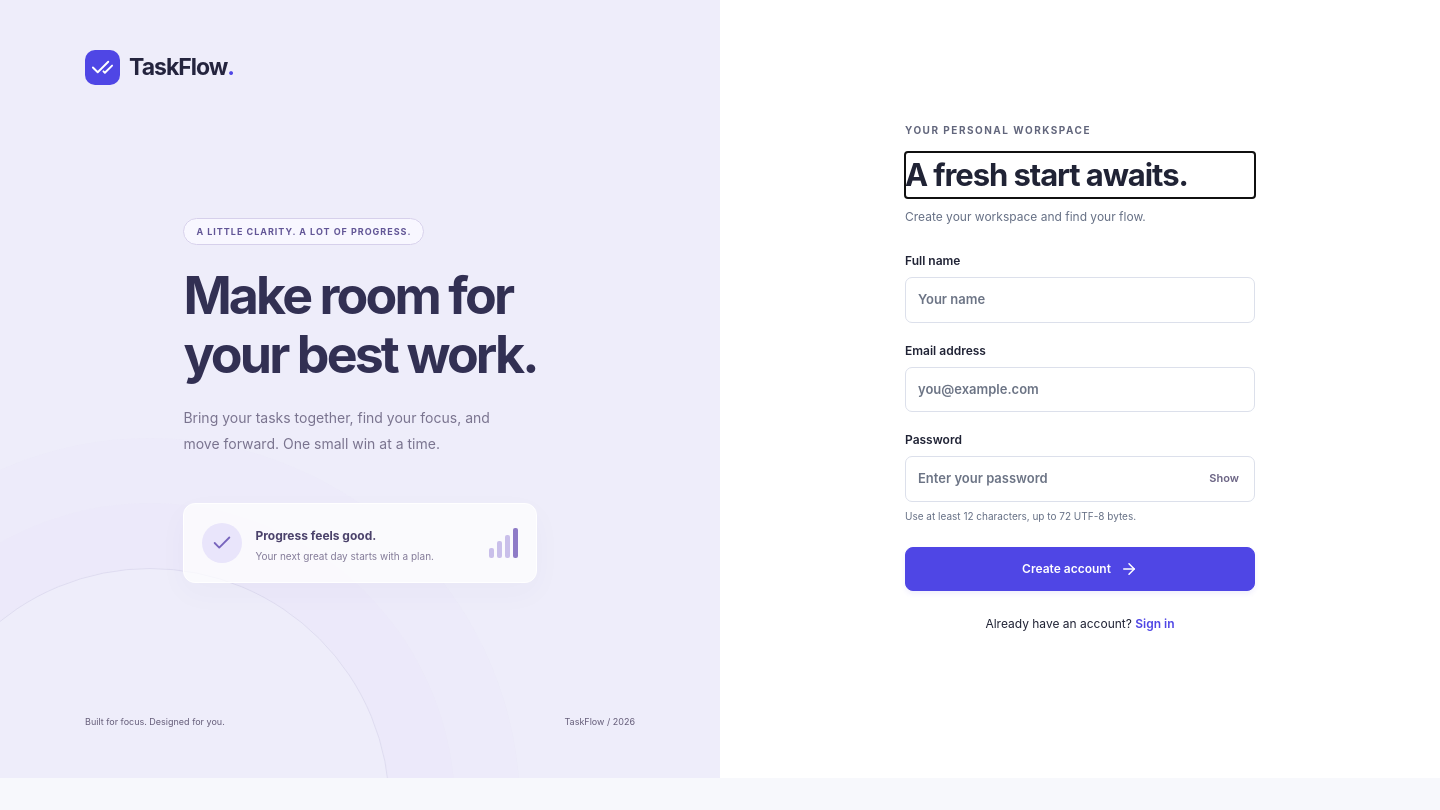
retains registration inputs and associates authoritative server validation errors
Type "Retained Name" into the field labelled "Full name" at (1080,300), box [905, 277, 1255, 322]
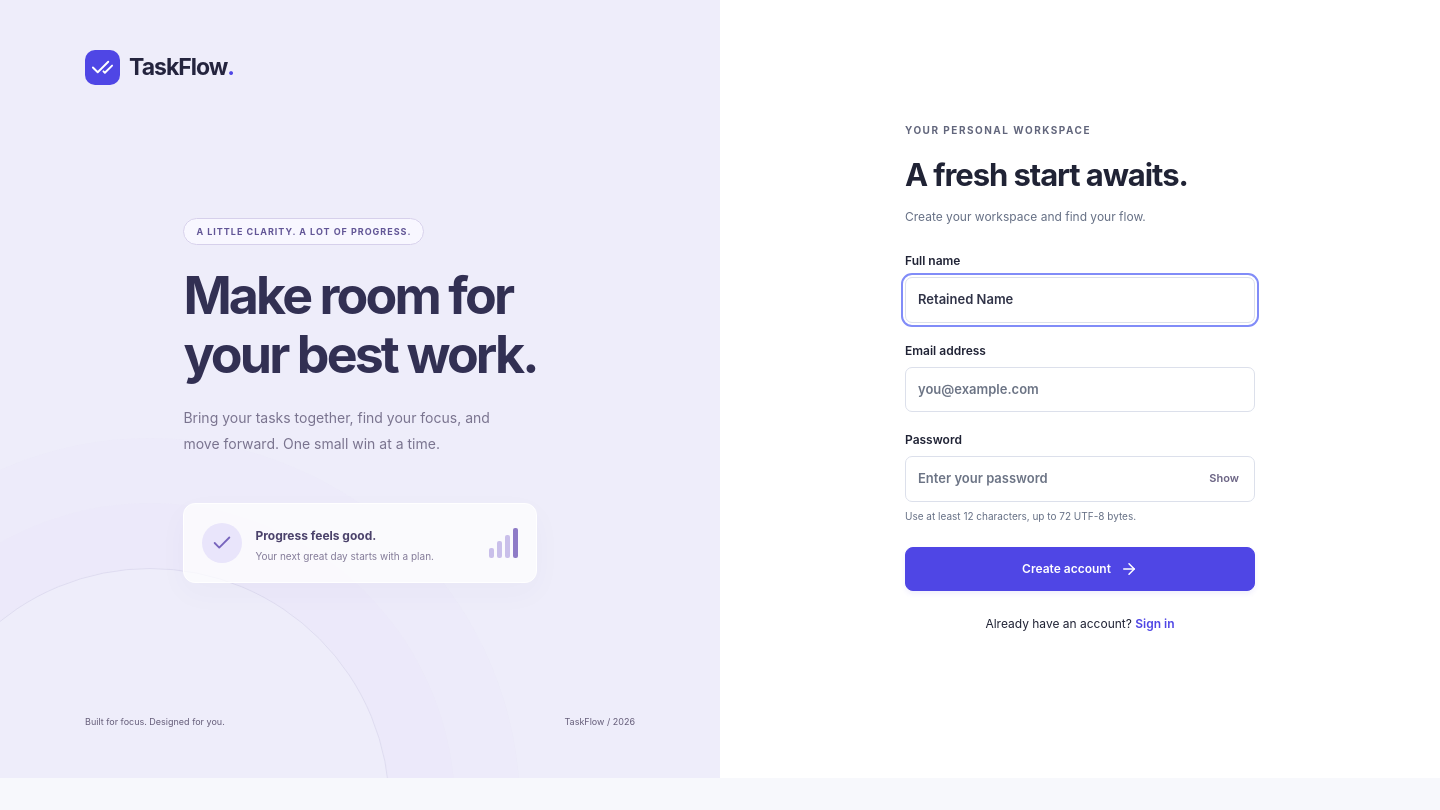
Type "retained@example.com" into the field labelled "Email address" at (1080,389), box [905, 366, 1255, 412]
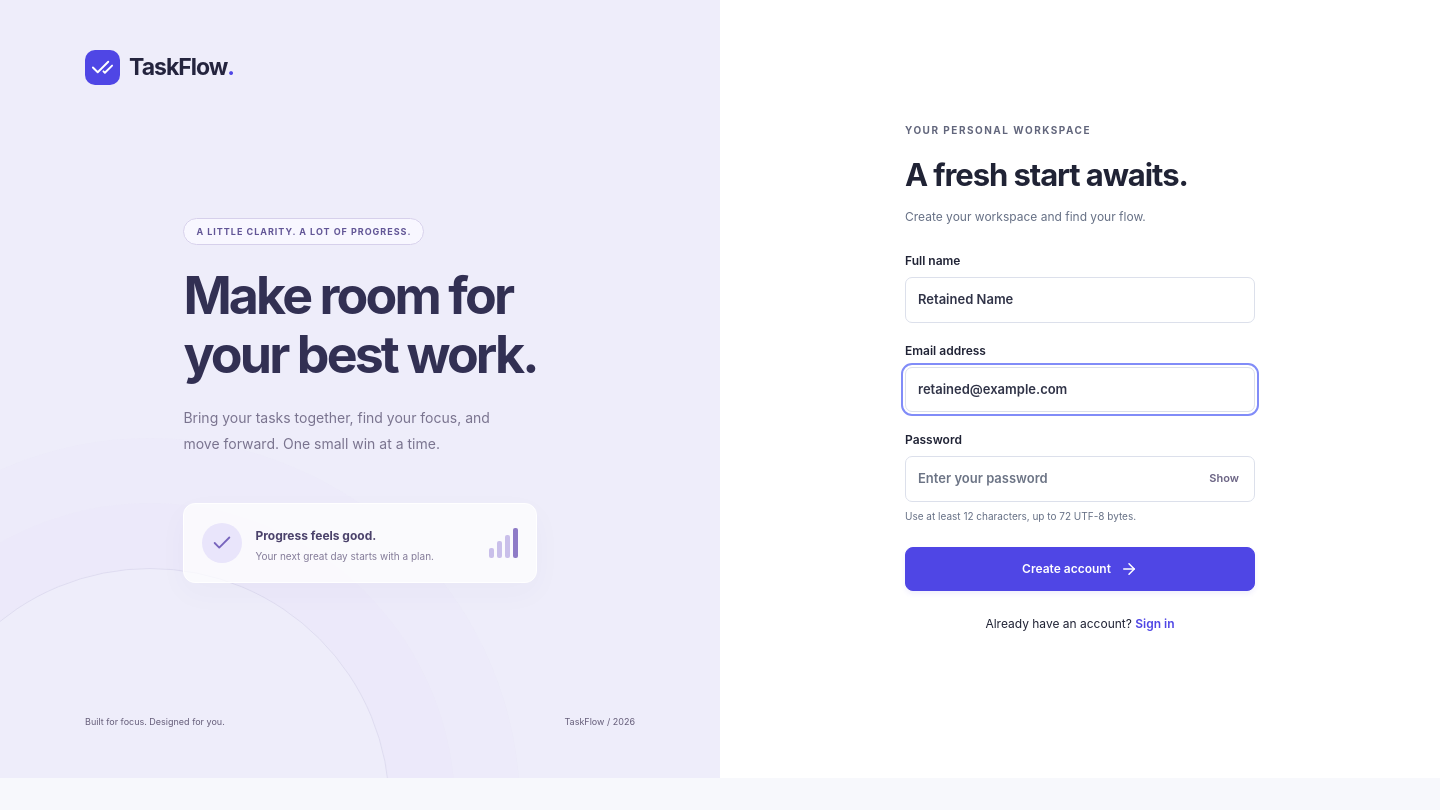
Type "Retained password 123!" into the password field labelled "Password" at (1080,479), box [905, 456, 1255, 502]
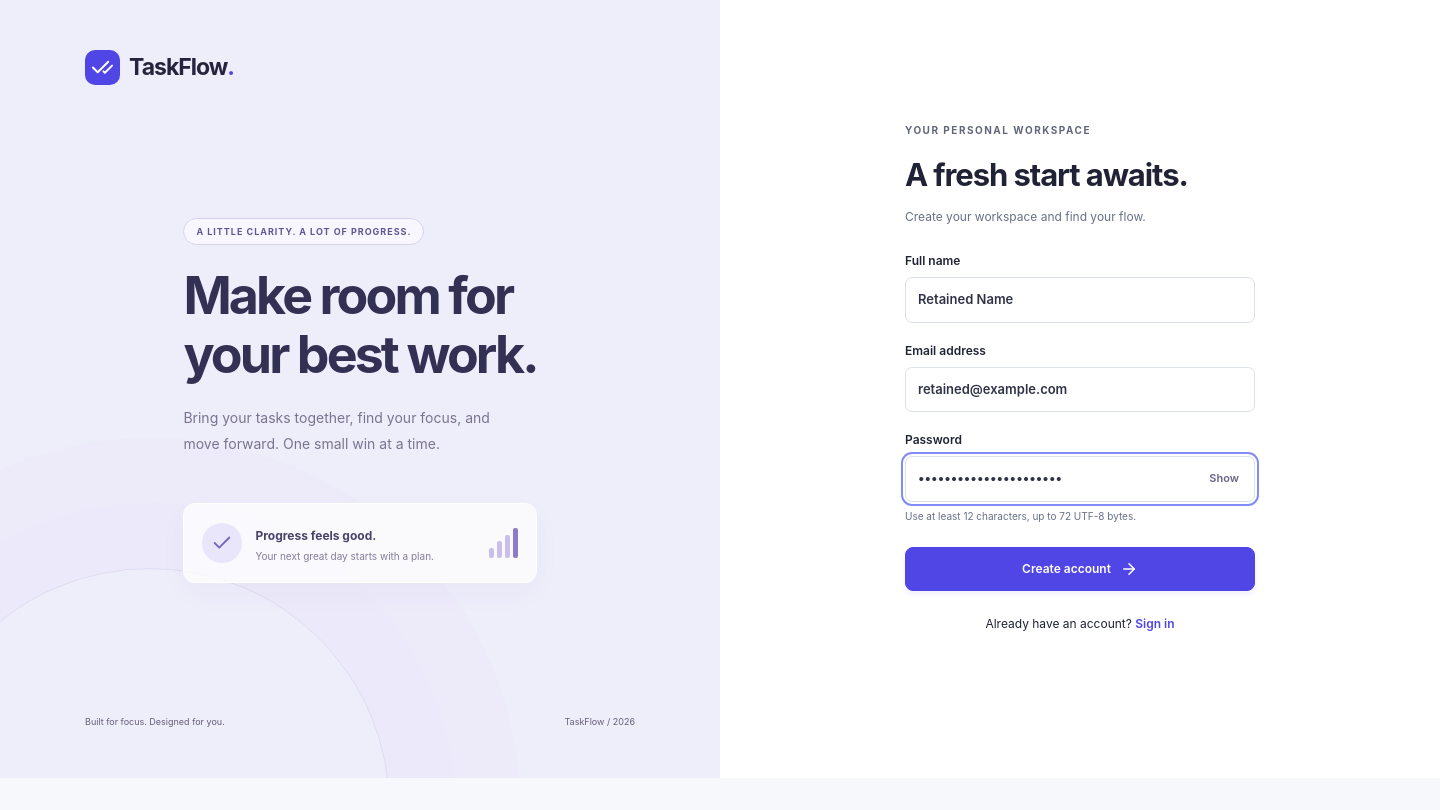
Click the button "Create account" at (1080,568), box [905, 546, 1255, 590]
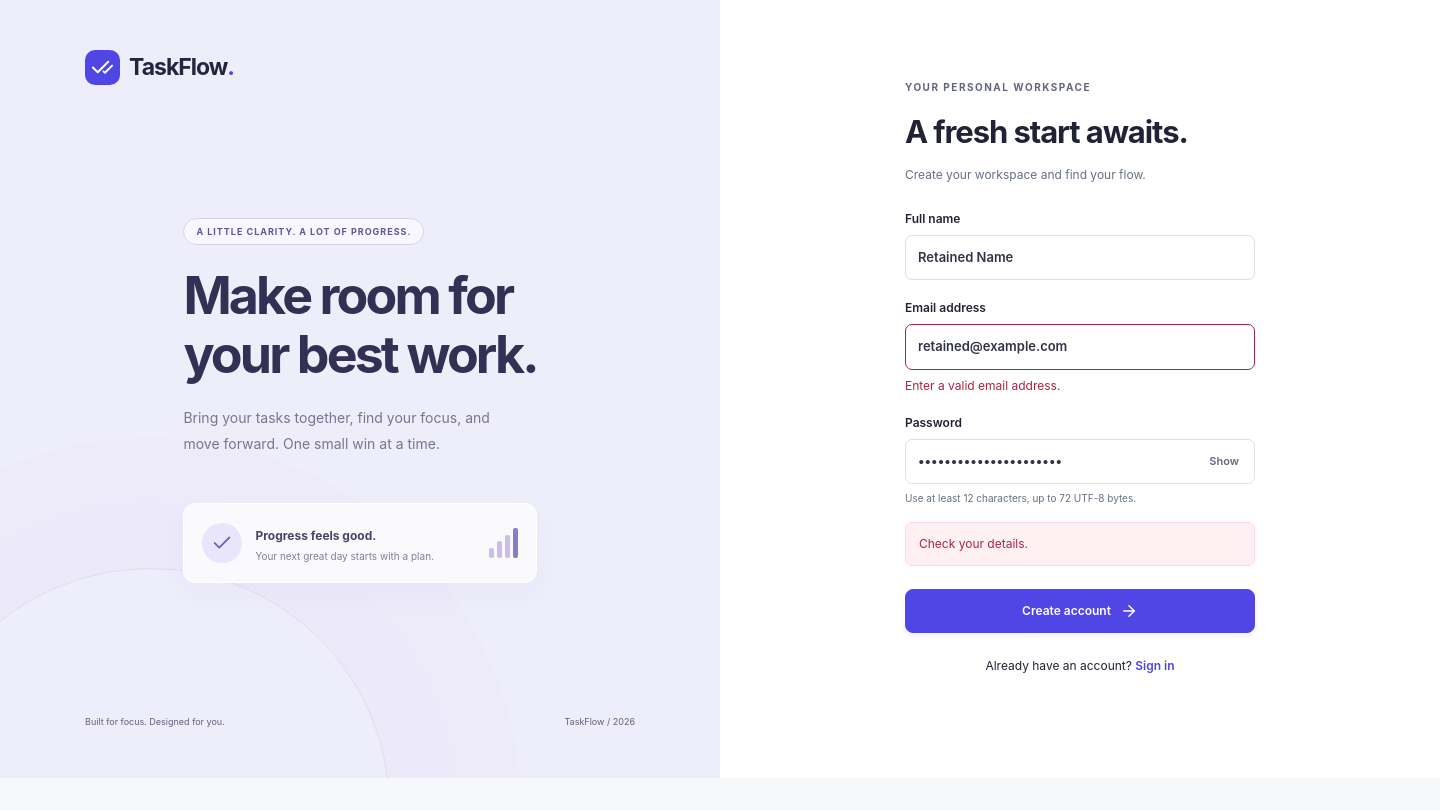
Result: the message shows "Check your details" at [919, 536, 1028, 551]
